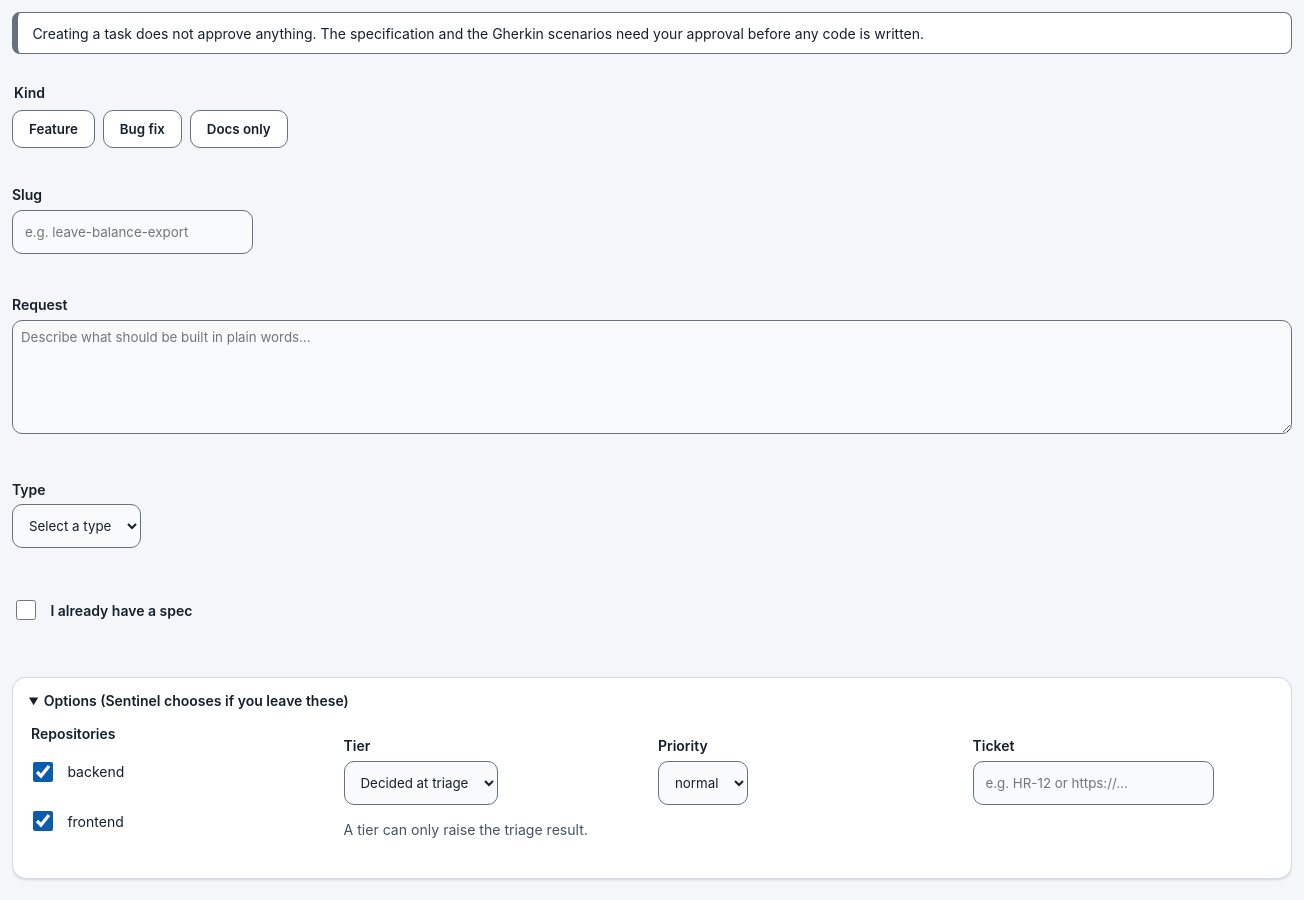
Test case: AC-TSK-01n the form checks fields before sending › Save as draft stores draft into localStorage and restores it across renders
The image size is (1304, 900).
Later steps or results of the test are not shown.
In the field labelled "Slug": (132,232) [12,210,253,254], type "draft-task"
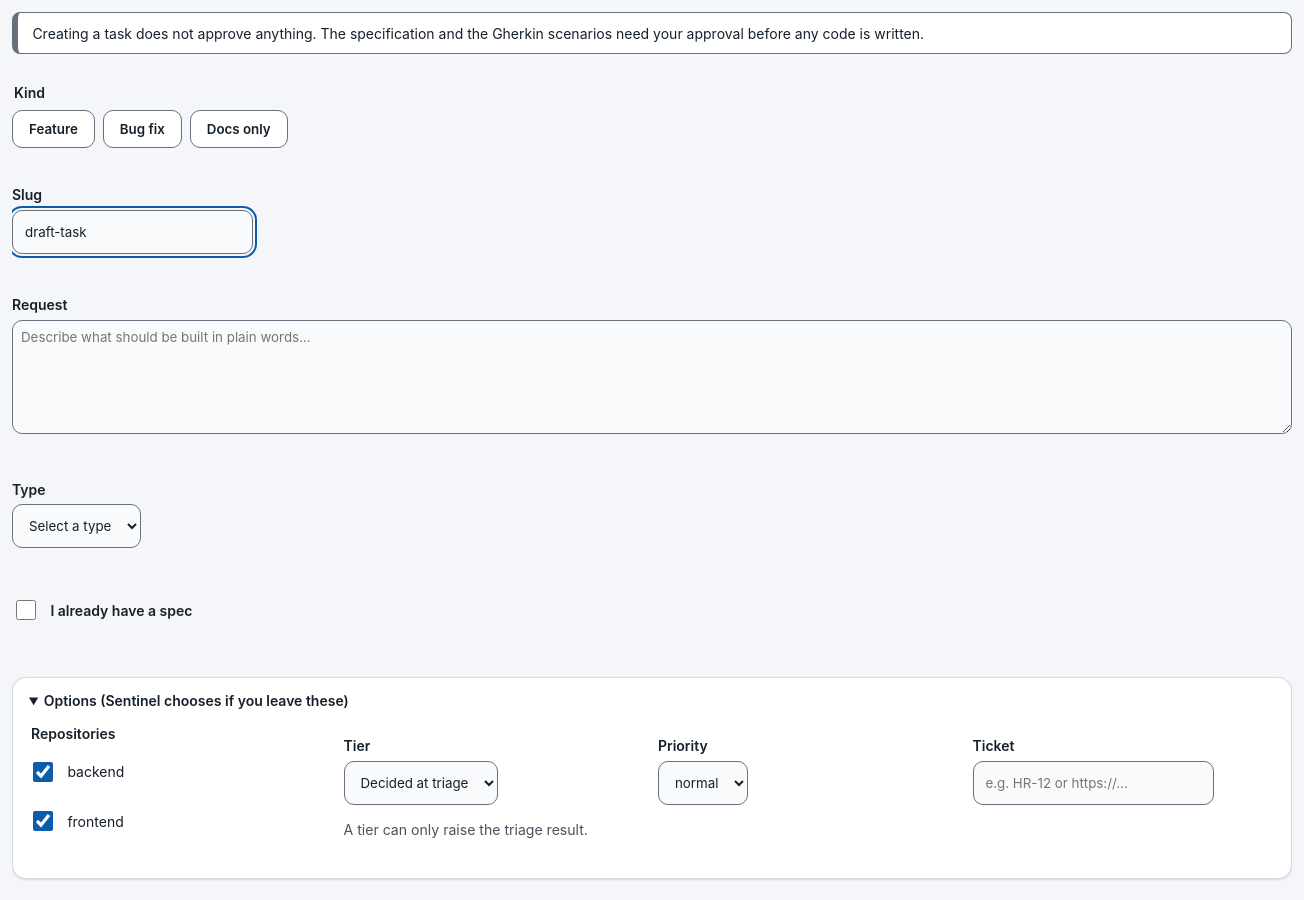
In the text box labelled "Request": (652,377) [12,320,1292,434], type "Draft request details"
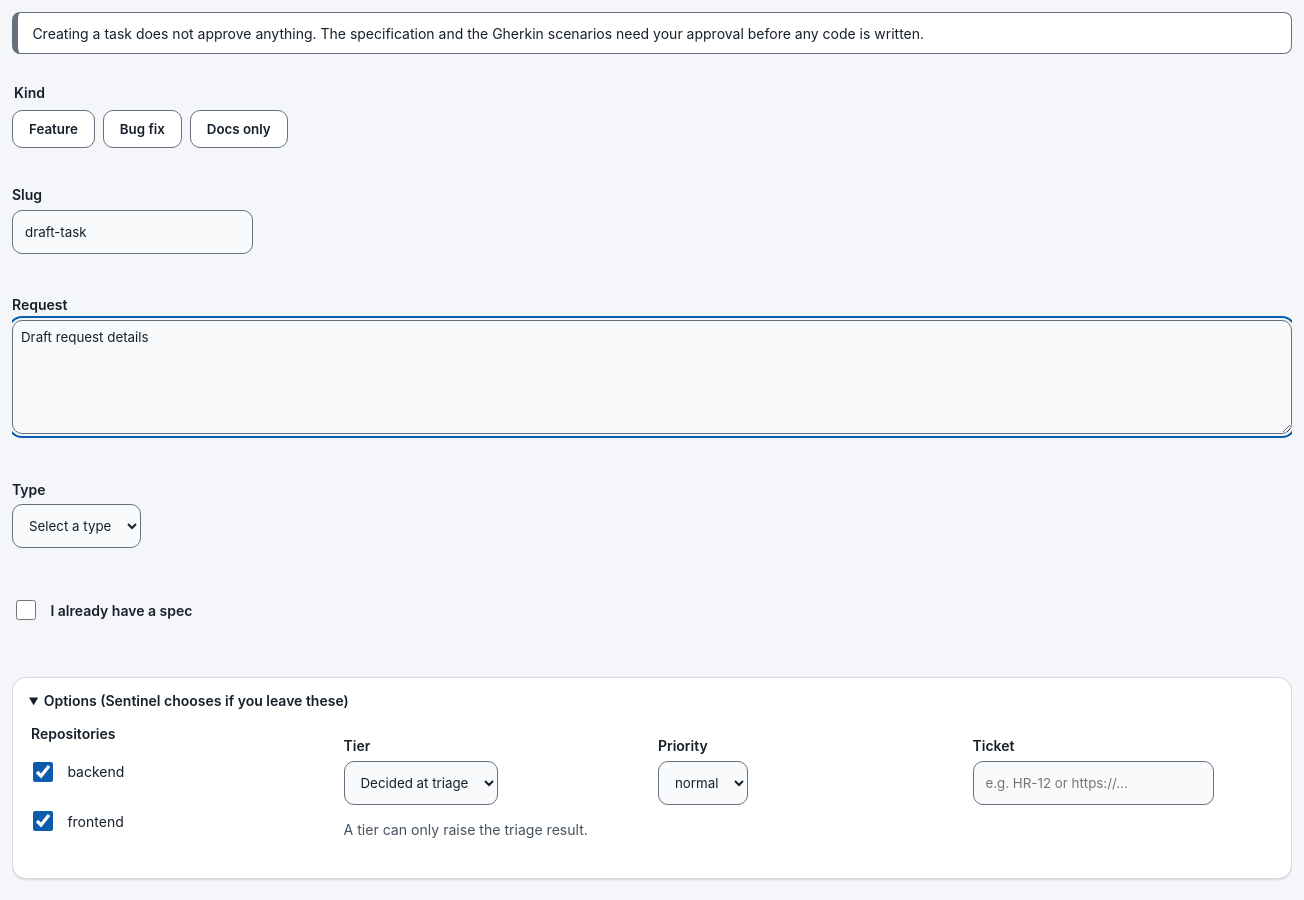
Select "bug" in the dropdown labelled "Type": (76,526) [12,504,141,548]
(page scrolled)
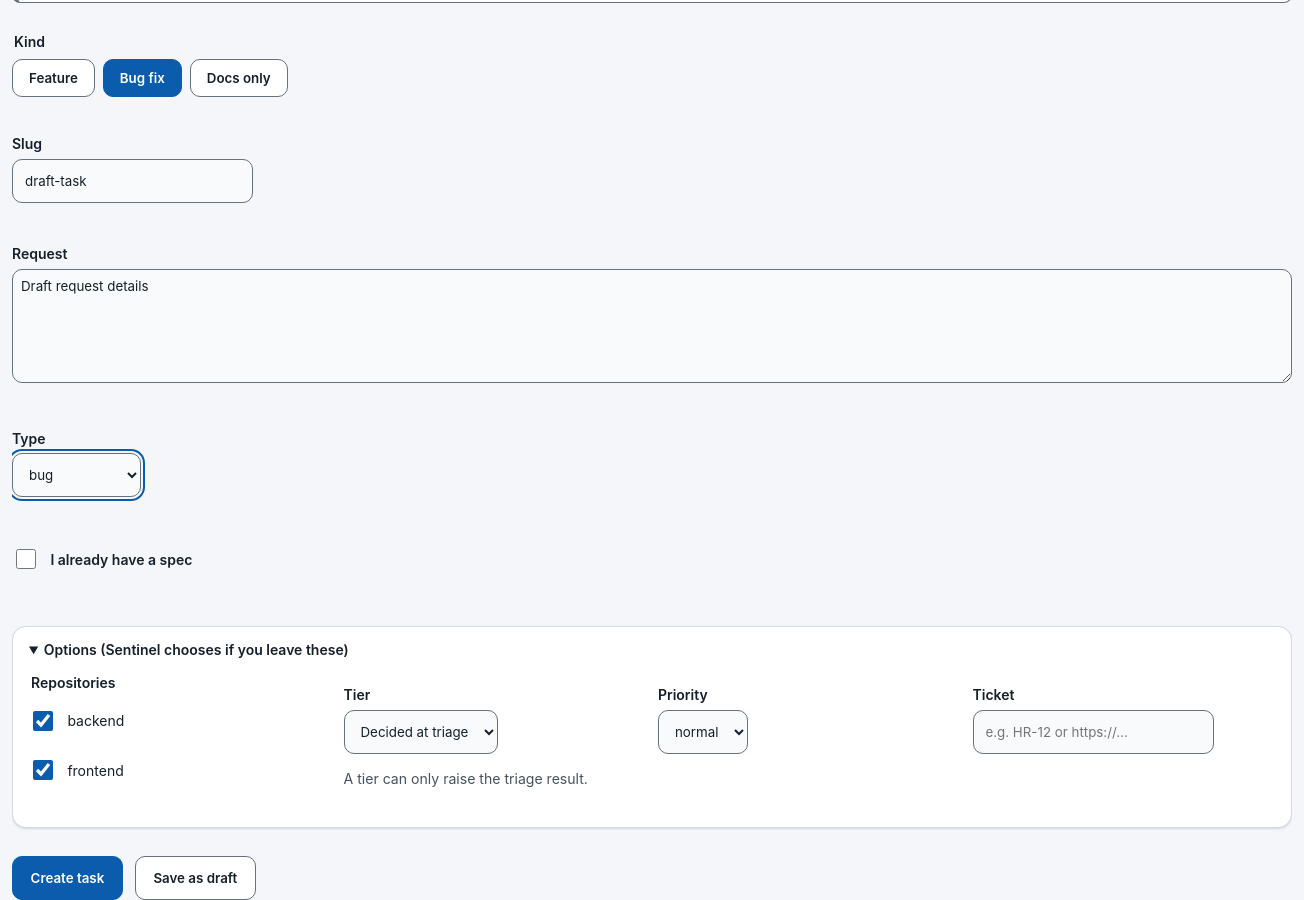
Click the button "Save as draft": (195,878) [135,856,256,899]
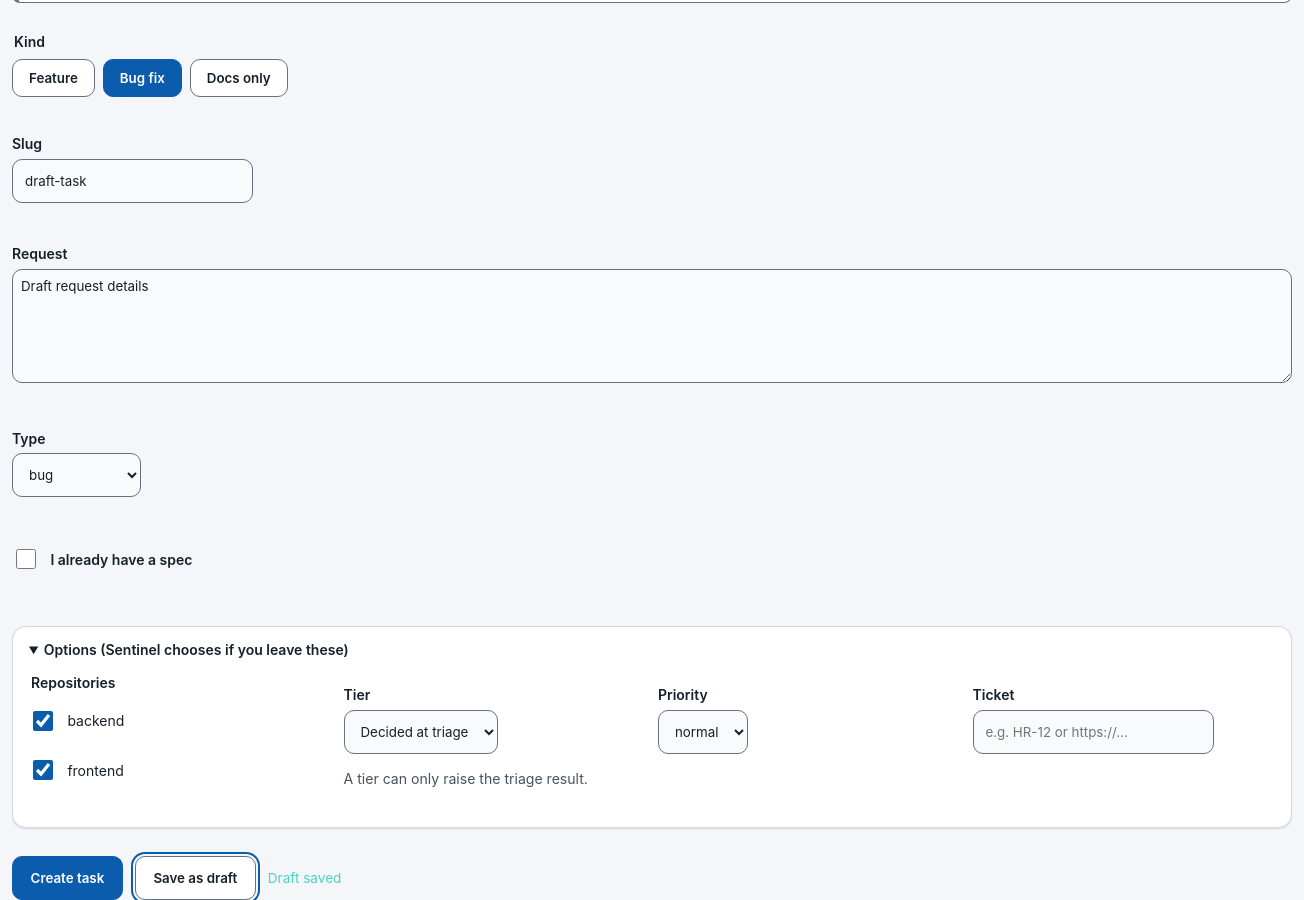
Expected: the text "Draft saved" is shown, [268,868,341,888]
